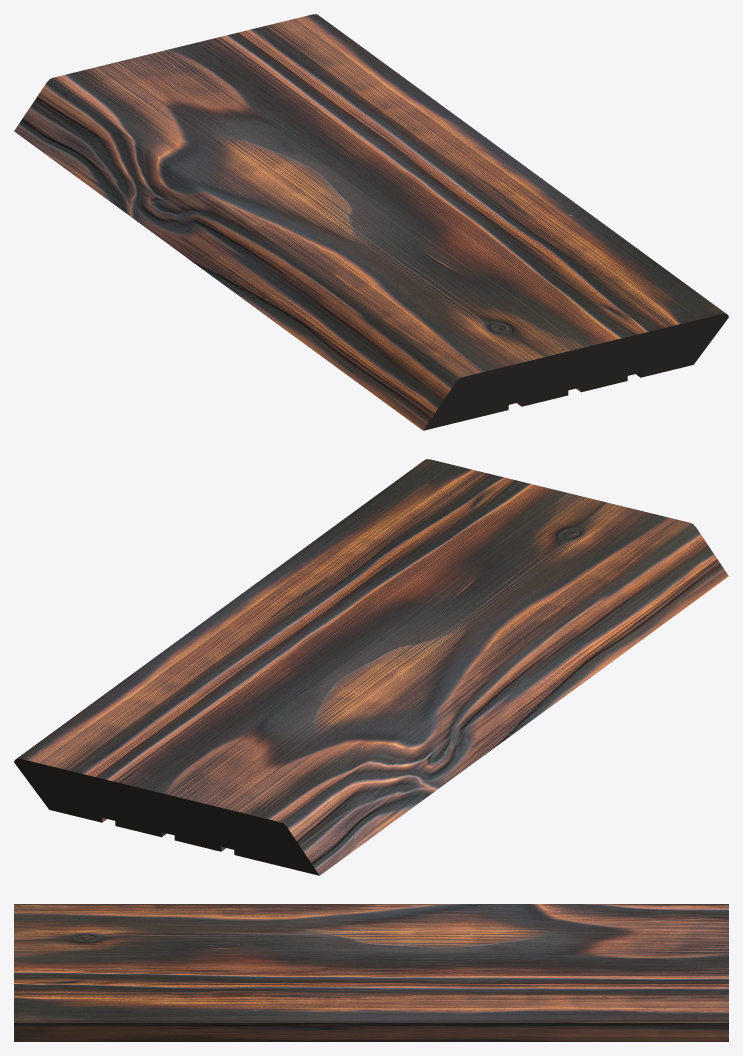
File: larch-facade-rhombus-natural.glb
3 views of the same model, one above another, from view 1: azimuth 30°, elevation 25°; view 2: azimuth 150°, elevation 25°; view 3: azimuth 270°, elevation 25° (orthographic). The views are drawn at different scales.
Parts seen in each view (by area): view 1: Rombas; view 2: Rombas; view 3: Rombas.
Boxes of the visible parts, left/top/right/bottom form: Rombas: left=14, top=14, right=728, bottom=430; Rombas: left=14, top=459, right=728, bottom=875; Rombas: left=14, top=904, right=728, bottom=1041.
Size of the model in its own units: 0.0723 by 0.00995 by 0.1675.
Materials: 3 (1 with a texture image).
